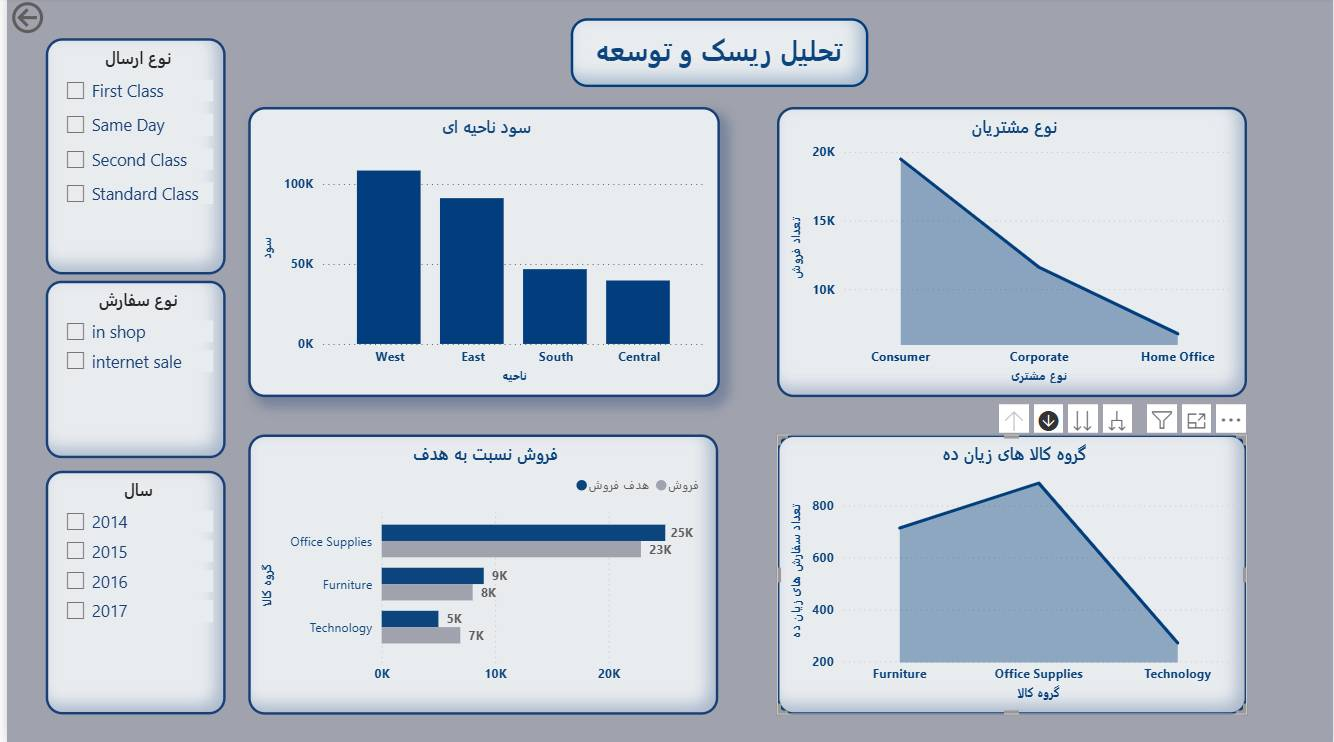

Layout of this report page (visuals, bound fields, positions):
{"tool":"powerbi","page":{"name":"تحلیل ریسک و توسعه","canvas":[1280,720],"ordinal":1},"visuals":[{"type":"stackedAreaChart","title":"گروه کالا های زیان ده","fields":{"Category":["All Sales.گروه کالا Hierarchy.گروه کالا","All Sales.گروه کالا Hierarchy.زیر گروه کالا"],"Y":["All Sales.تعداد سفارش های زیان ده"]},"box":[743.2,422.3,453.6,270.2],"z":0},{"type":"slicer","title":"نوع سفارش","fields":{"Values":["Order Type.نوع سفارش"]},"box":[37.4,273.9,173.7,171.3],"z":1000},{"type":"slicer","title":"سال","fields":{"Values":["All Sales.تاریخ سفارش.Variation.Date Hierarchy.Year"]},"box":[37.4,457.2,173.7,235.3],"z":2000},{"type":"slicer","title":"نوع ارسال","fields":{"Values":["All Sales.نوع ارسال"]},"box":[37.4,39.8,173.7,228],"z":3000},{"type":"areaChart","title":"نوع مشتریان","fields":{"Category":["All Sales.نوع مشتری"],"Y":["Sum(All Sales.فروش تعدادی)"]},"box":[743.2,106.2,453.6,279.9],"z":4000},{"type":"clusteredColumnChart","title":"سود ناحیه ای","fields":{"Category":["All Sales.ناحیه"],"Y":["Sum(All Sales.سود)"]},"box":[232.8,106.2,454.8,279.9],"z":5000},{"type":"clusteredBarChart","title":"فروش نسبت به هدف","fields":{"Category":["Target.گروه کالا"],"Y":["Sum(Target.هدف فروش)","Sum(All Sales.فروش تعدادی)"]},"box":[232.8,422.3,453.6,270.2],"z":6000},{"type":"textbox","box":[544.1,20.5,287.1,66.4],"z":7000},{"type":"actionButton","box":[0,0,74.8,39.8],"z":8000}]}

Visuals, with their boxes in screenshot pixels (x1, y1, x2, y2), scaled from the page's 1280x720 canvas onto the 1334x742 screenshot:
"گروه کالا های زیان ده" stackedAreaChart: locate(775, 435, 1247, 714)
"نوع سفارش" slicer: locate(39, 282, 220, 459)
"سال" slicer: locate(39, 471, 220, 714)
"نوع ارسال" slicer: locate(39, 41, 220, 276)
"نوع مشتریان" areaChart: locate(775, 109, 1247, 398)
"سود ناحیه ای" clusteredColumnChart: locate(243, 109, 717, 398)
"فروش نسبت به هدف" clusteredBarChart: locate(243, 435, 715, 714)
textbox: locate(567, 21, 866, 90)
actionButton: locate(0, 0, 78, 41)
